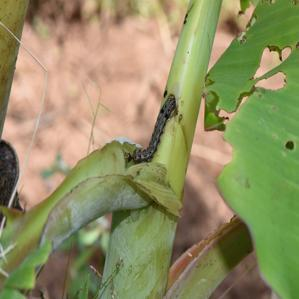Tobacco cutworm: (82, 69, 190, 176)
